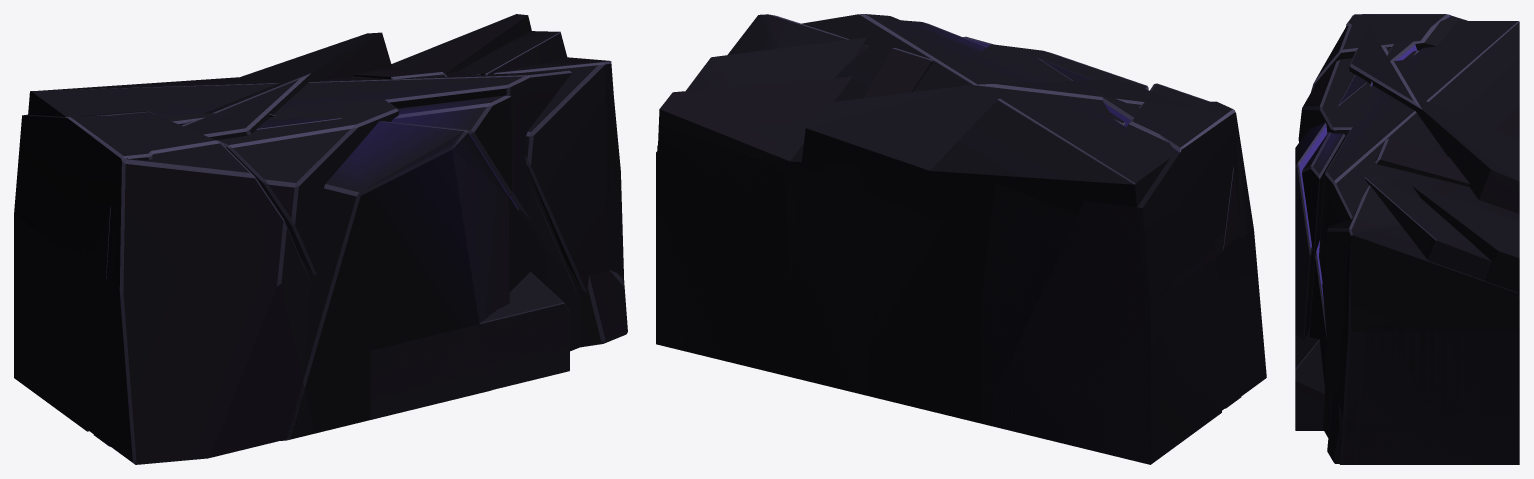
Rendered from cliff-kit-v2.glb.
The picture shows the model from 3 angles, left to right: view 1: azimuth 30°, elevation 25°; view 2: azimuth 150°, elevation 25°; view 3: azimuth 270°, elevation 25°; orthographic projection. The views are drawn at different scales.
Parts seen in each view (by area): view 1: void_wall_0, void_wall_2, void_wall_3, void_wall_1; view 2: void_wall_3, void_wall_0, void_wall_2, void_wall_1; view 3: void_wall_0, void_wall_2, void_wall_3, void_wall_1.
Boxes of the visible parts, <box> form: void_wall_0: <box>14,57,624,464</box>; void_wall_2: <box>14,68,571,446</box>; void_wall_3: <box>88,31,627,446</box>; void_wall_1: <box>14,14,531,444</box>; void_wall_3: <box>656,37,1242,457</box>; void_wall_0: <box>657,14,1266,463</box>; void_wall_2: <box>656,14,1241,464</box>; void_wall_1: <box>656,76,1246,464</box>; void_wall_0: <box>1295,14,1517,464</box>; void_wall_2: <box>1295,14,1519,464</box>; void_wall_3: <box>1295,26,1519,464</box>; void_wall_1: <box>1346,14,1519,464</box>.
Bounding box in the file's own units: 2.1 × 1.15 × 0.95.
